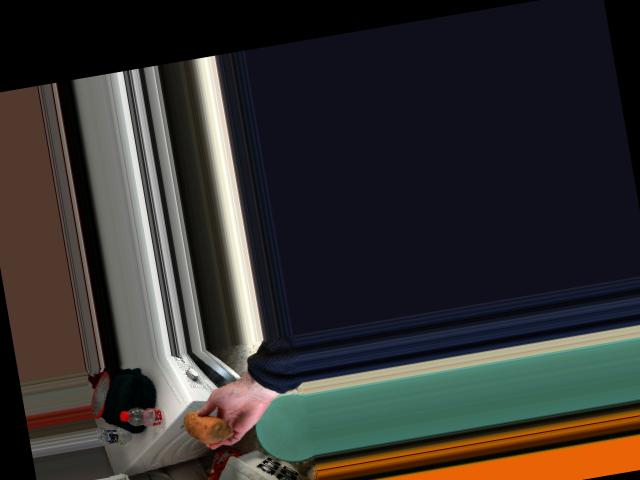sweet_potato: (182, 409, 228, 447)
